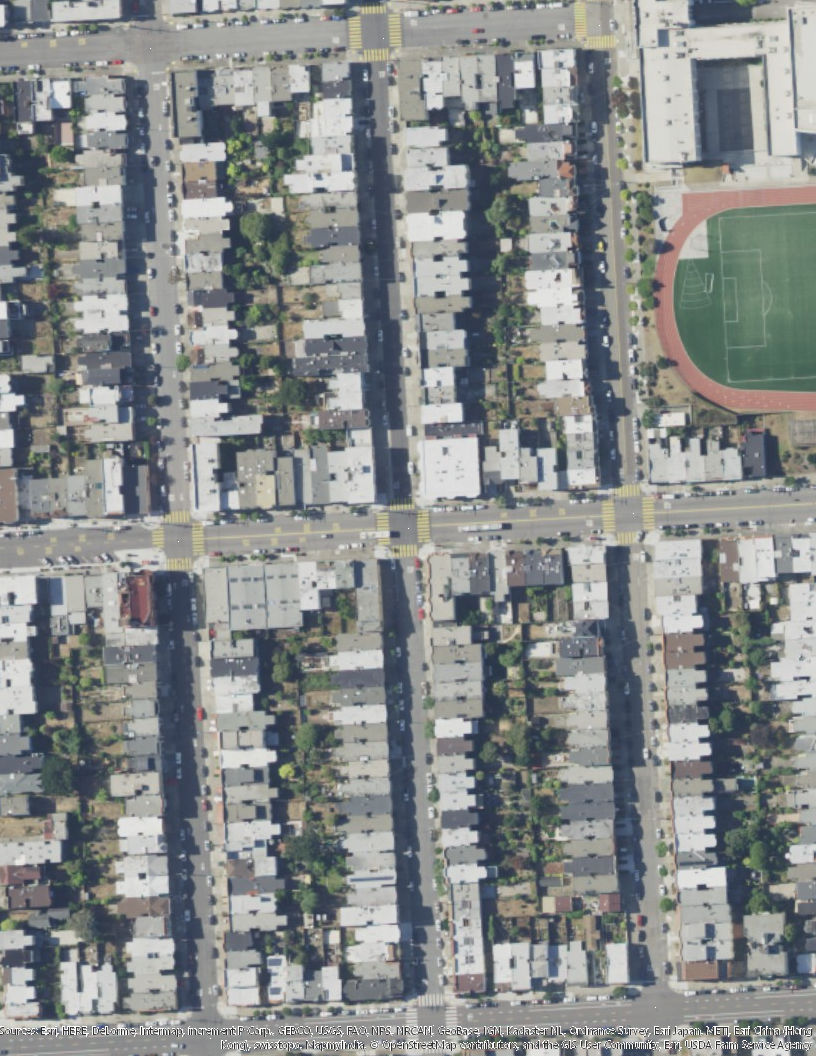zebracross: (345, 10, 362, 49), (374, 509, 391, 545), (583, 34, 618, 51), (415, 509, 431, 544), (572, 1, 587, 38), (386, 14, 403, 46), (601, 502, 617, 532), (641, 497, 654, 533), (191, 522, 205, 554), (389, 495, 417, 511), (416, 993, 446, 1007), (613, 482, 639, 498), (164, 509, 189, 525), (361, 47, 389, 61), (150, 522, 163, 552), (167, 556, 193, 571), (359, 1, 386, 15), (393, 542, 418, 557), (617, 531, 643, 544), (444, 1005, 457, 1024), (407, 1009, 416, 1024)
